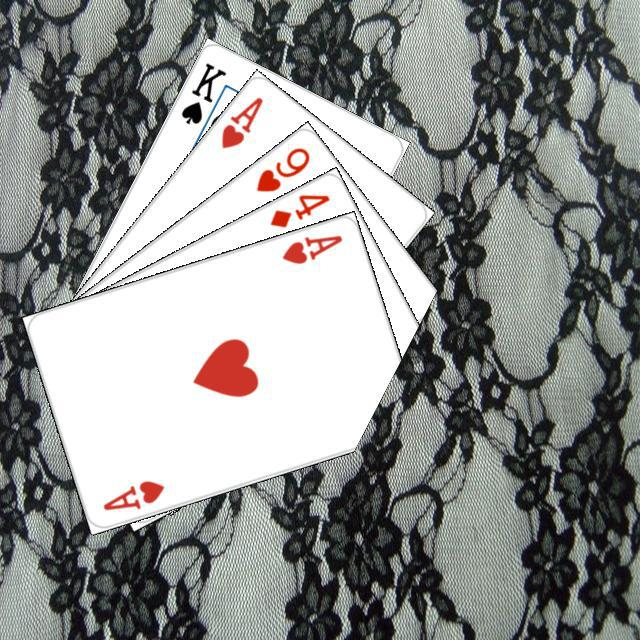4d: (264, 189, 332, 230)
9h: (250, 142, 312, 194)
Ah: (216, 91, 265, 151), (98, 475, 166, 513), (277, 230, 344, 266)
Ks: (176, 57, 228, 126)
